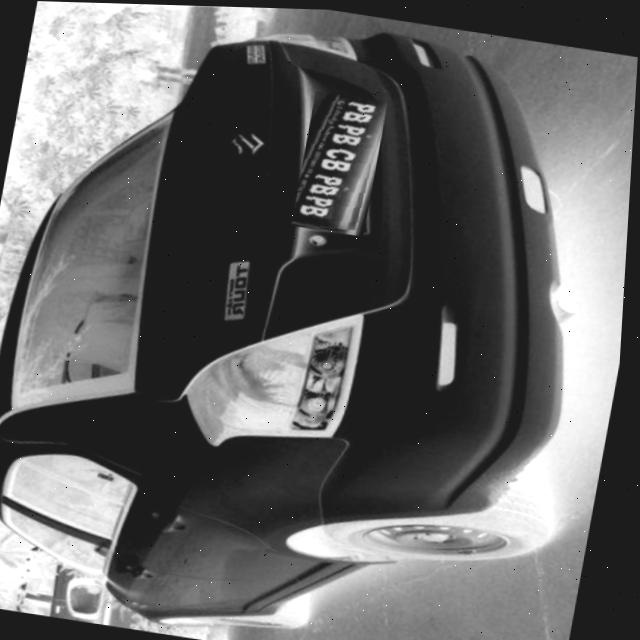Non_registered: (293, 88, 389, 234)
